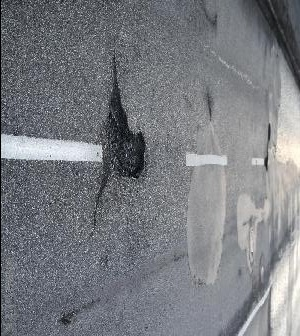pothole: (100, 88, 147, 183), (262, 153, 271, 171), (267, 122, 273, 142)
